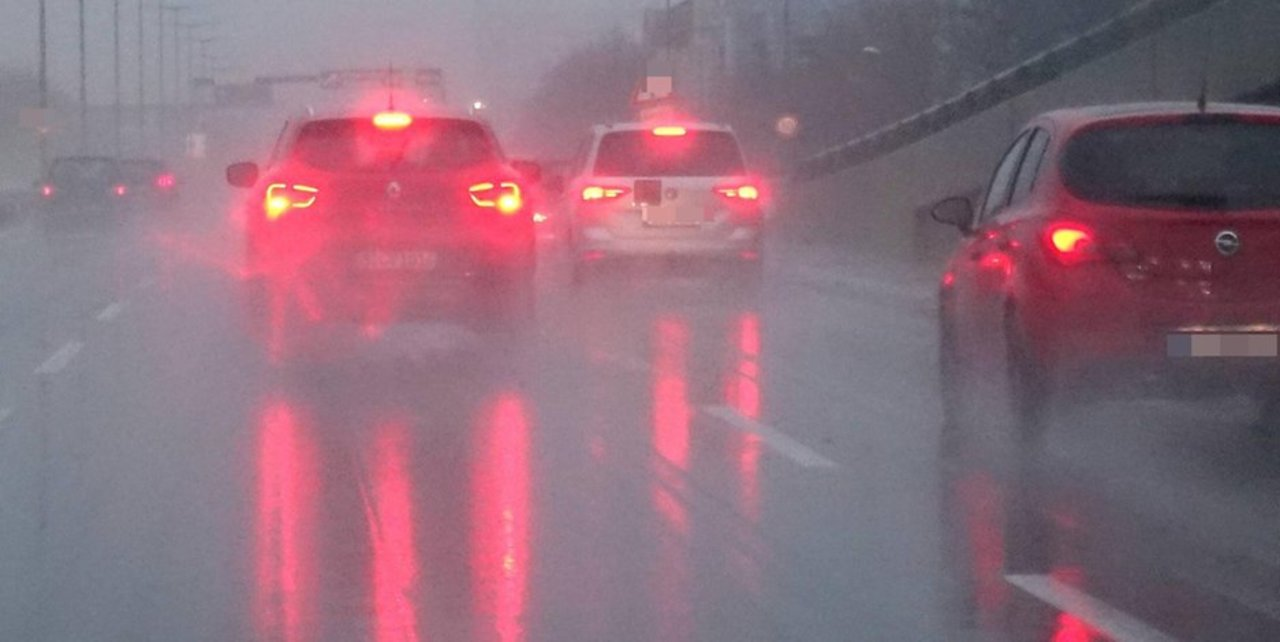car: (933, 99, 1278, 392), (245, 105, 543, 313), (554, 116, 775, 289), (35, 156, 132, 231), (128, 157, 180, 211)
